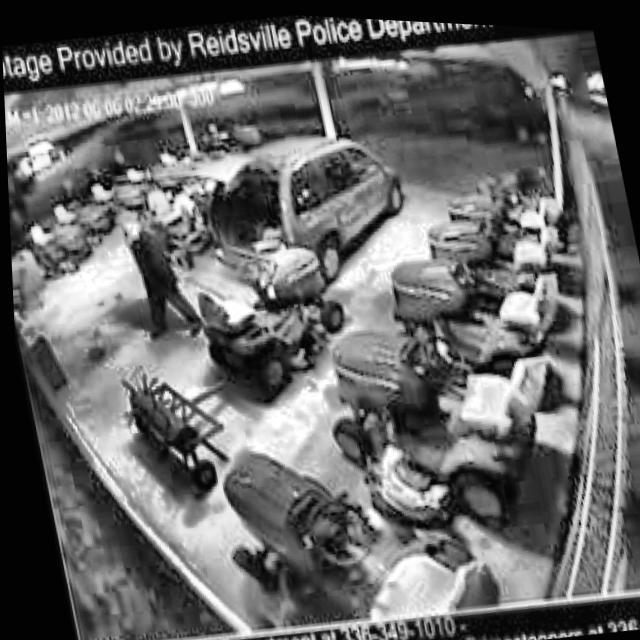Weapon: (110, 207, 219, 346)
